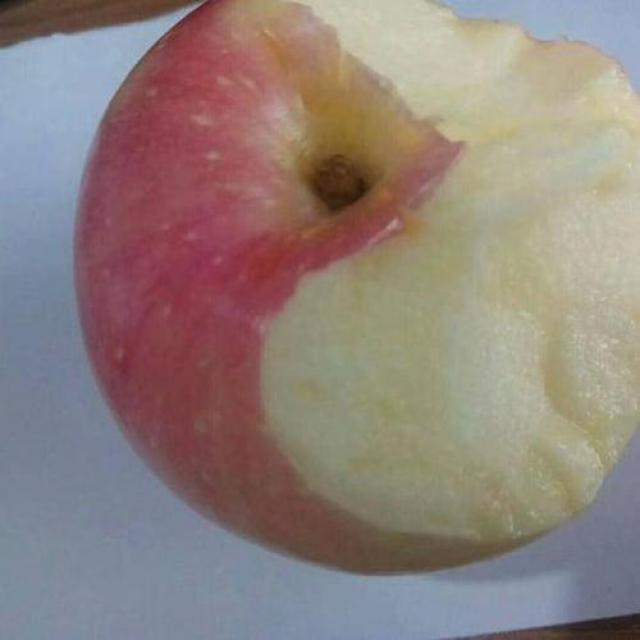Apple: (73, 0, 640, 580)
